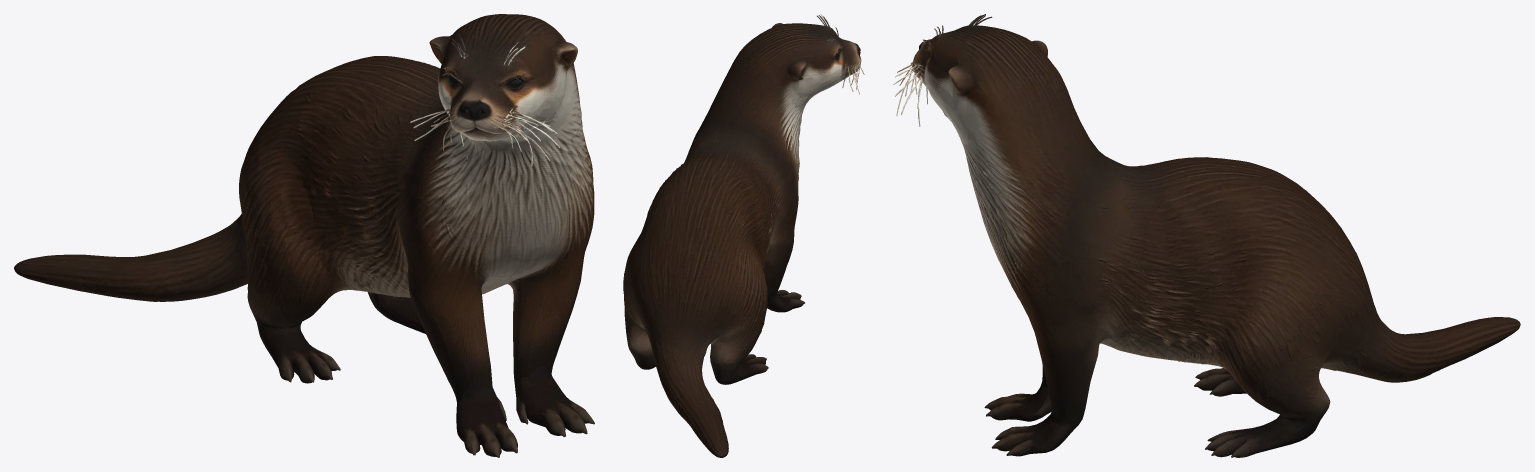
Rendered from north-american-river-otter.glb.
The picture shows the model from 3 angles, left to right: view 1: azimuth 30°, elevation 25°; view 2: azimuth 150°, elevation 25°; view 3: azimuth 270°, elevation 25°; orthographic projection. The views are drawn at different scales.
Bounding box in the file's own units: 0.9566 × 1.28 × 1.91.
Materials: 1 (1 with a texture image).
